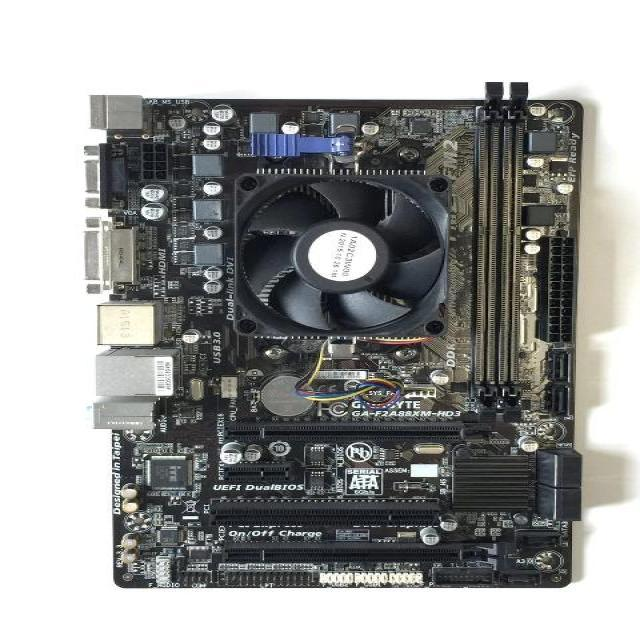CPU_Fan: (232, 175, 453, 338)
